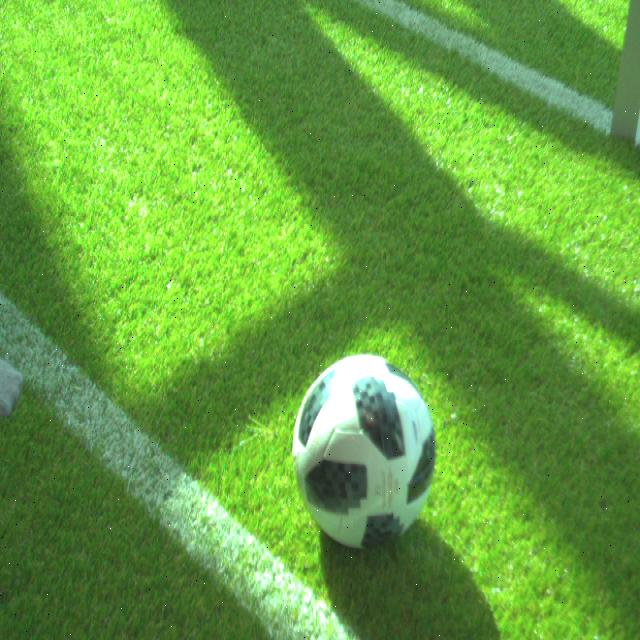ball: (293, 355, 437, 545)
goalpost: (608, 0, 640, 148)
